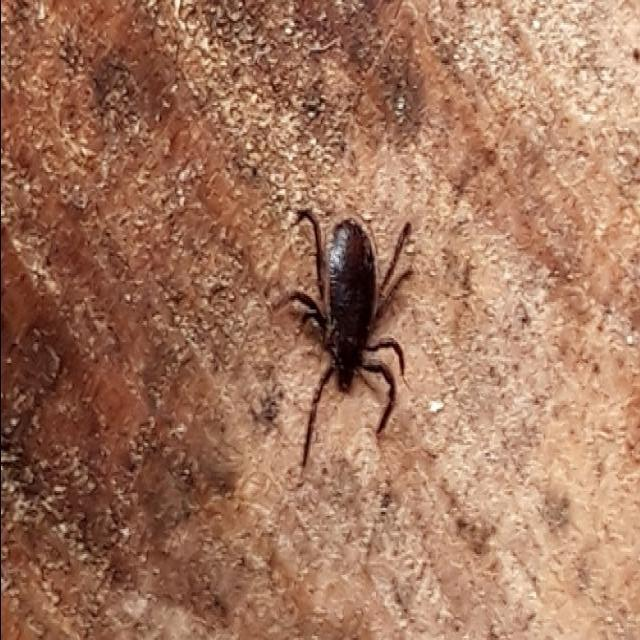Ixodes Ricinus-M: (273, 210, 416, 468)
